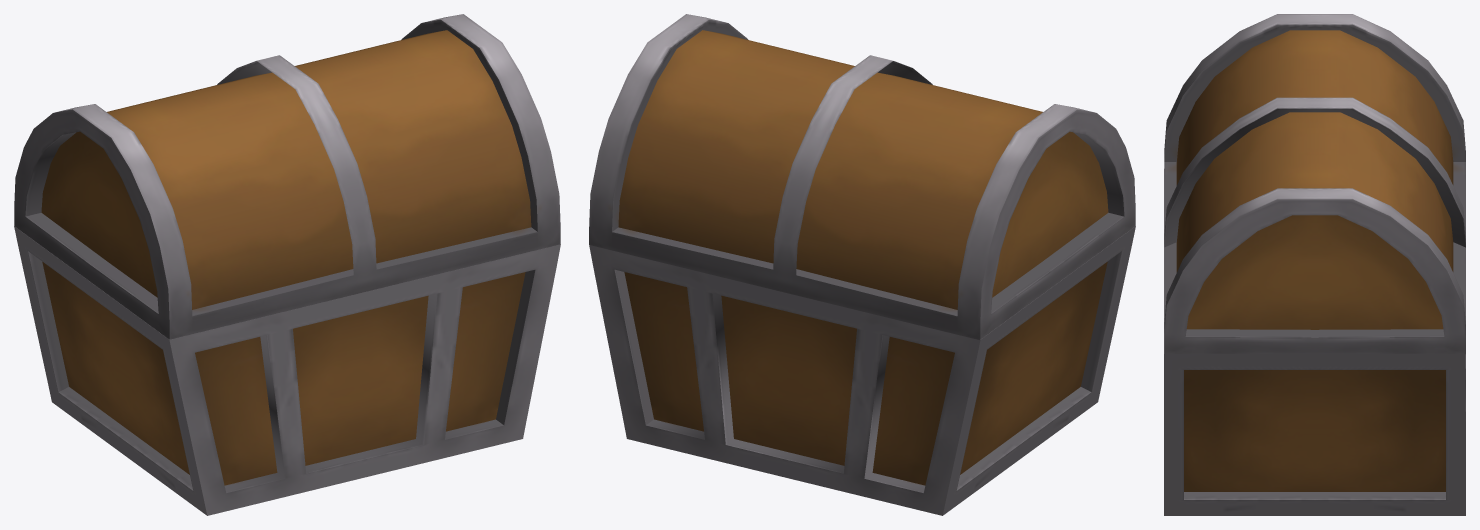
File: chest_vero.fbx
3 views of the same model, side by side, from view 1: azimuth 30°, elevation 25°; view 2: azimuth 150°, elevation 25°; view 3: azimuth 270°, elevation 25° (orthographic). The views are drawn at different scales.
Parts seen in each view (by area): view 1: Cabecita de cofre, Cofre; view 2: Cabecita de cofre, Cofre; view 3: Cabecita de cofre, Cofre.
Boxes of the visible parts, x1=… form: Cabecita de cofre: x1=14, y1=14, x2=560, y2=339; Cofre: x1=14, y1=226, x2=560, y2=515; Cabecita de cofre: x1=589, y1=14, x2=1135, y2=339; Cofre: x1=589, y1=226, x2=1135, y2=515; Cabecita de cofre: x1=1164, y1=14, x2=1465, y2=353; Cofre: x1=1164, y1=169, x2=1465, y2=515.
Size of the model in its own units: 291 by 247 by 200.
Materials: 1 (1 with a texture image).
